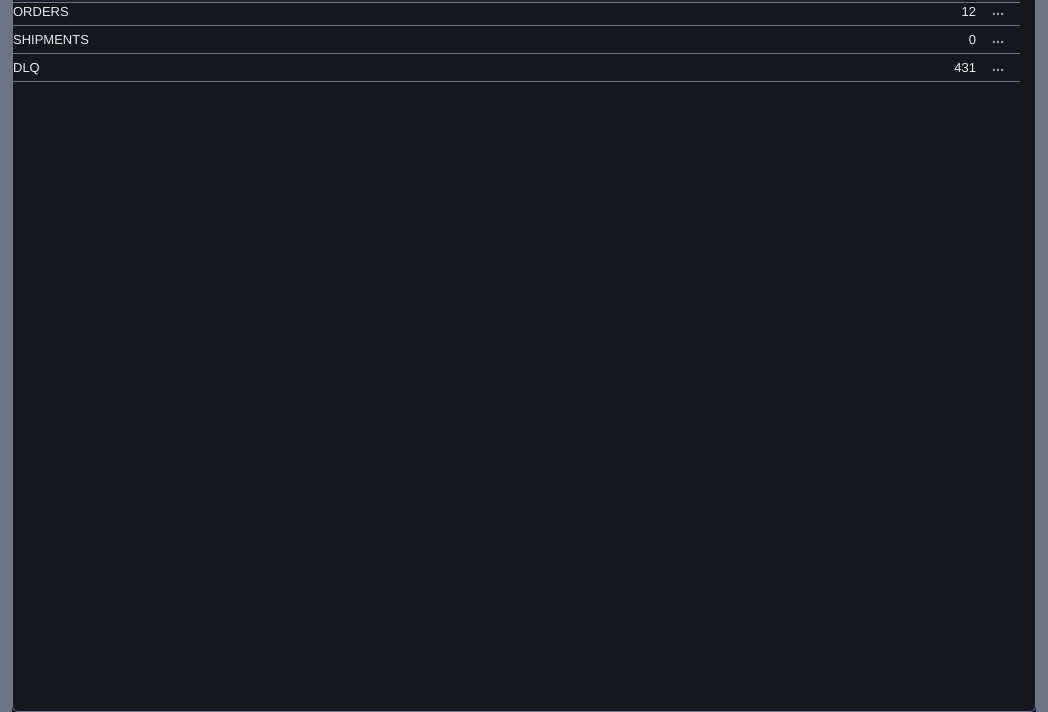
Test: DataTable › row menu (ADR-0107) › opens from the row's Actions control and returns focus to it
The image size is (1048, 712).
Click the button named "Actions for SHIPMENTS". click: {"x": 998, "y": 42}
box: [987,31,1009,53]
(page scrolled)
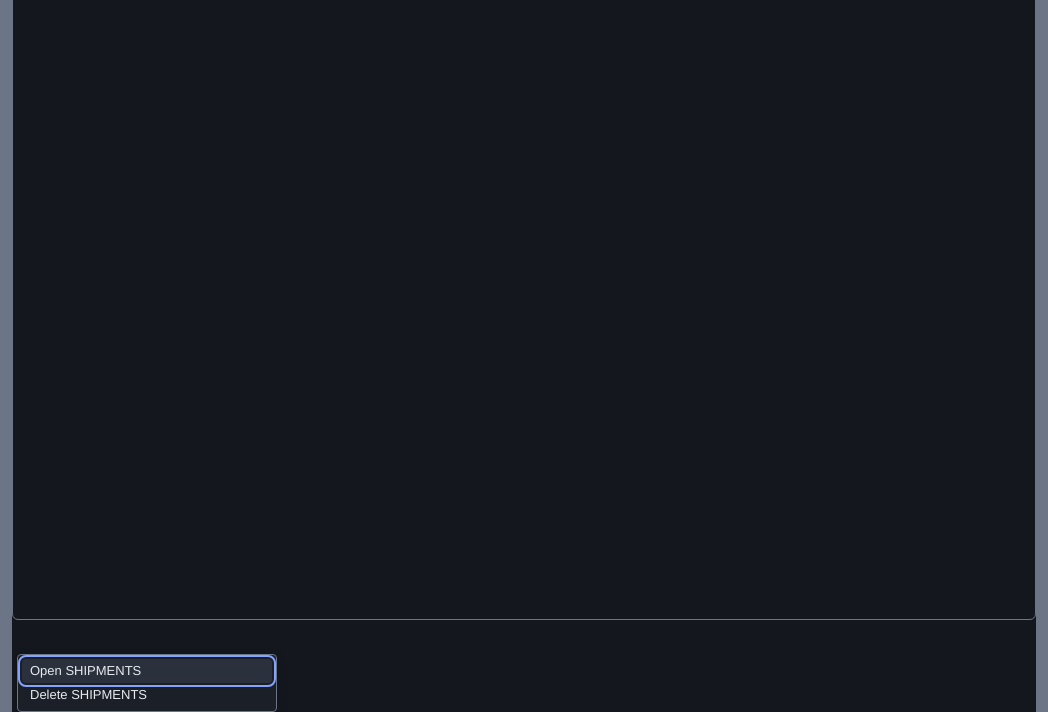
Expected: the menu item "Delete SHIPMENTS" is shown, [22,683,272,707]
Press Escape
(page scrolled)
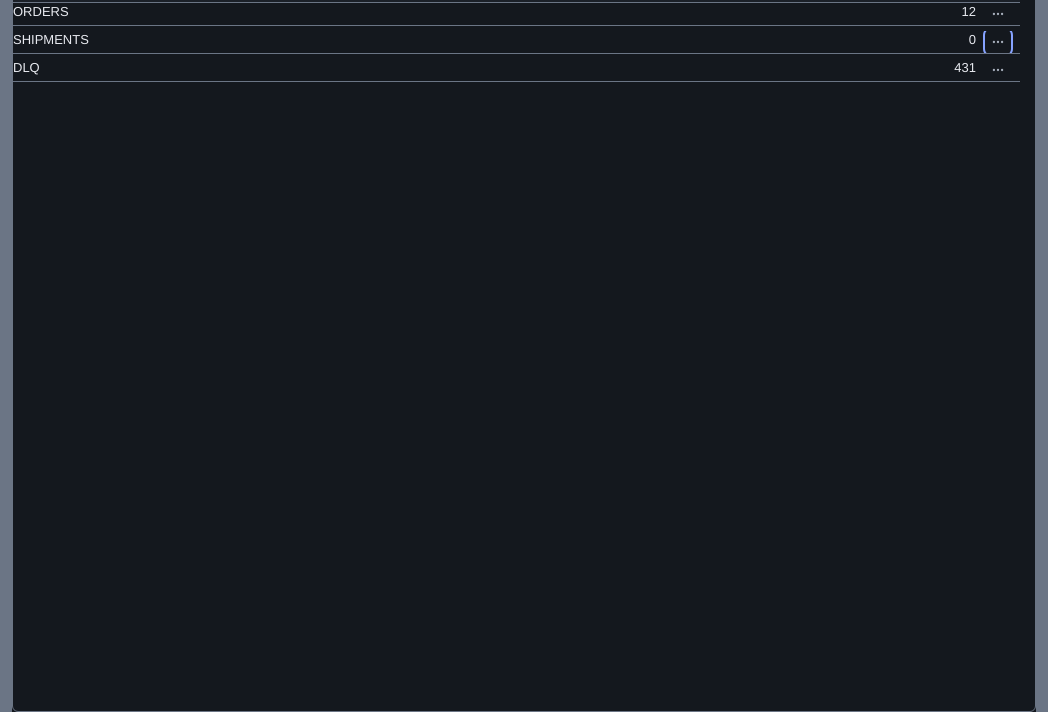
Expected: the menu is gone
